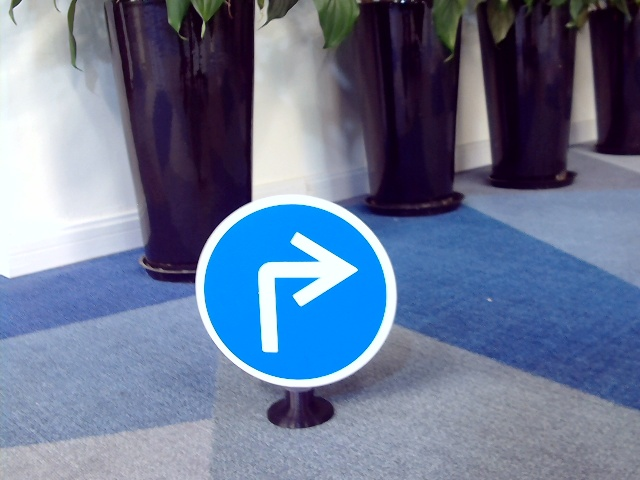turn_right: (244, 231, 351, 352)
